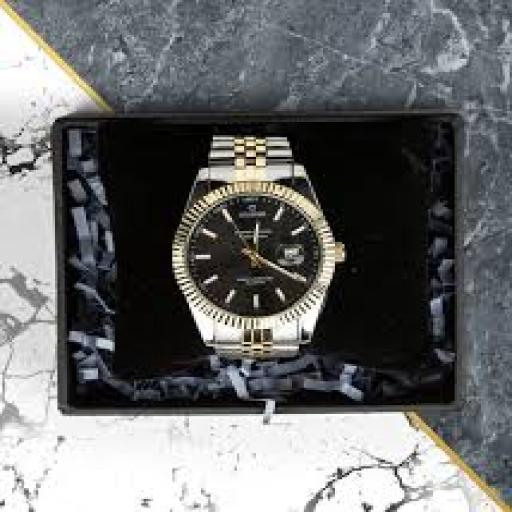KolSaati: (153, 113, 364, 384)
